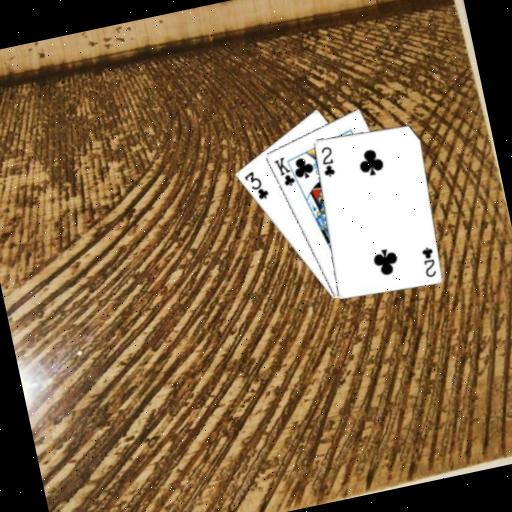2C: (315, 142, 338, 179), (416, 242, 438, 279)
3C: (239, 165, 271, 203)
KC: (269, 151, 301, 191)
